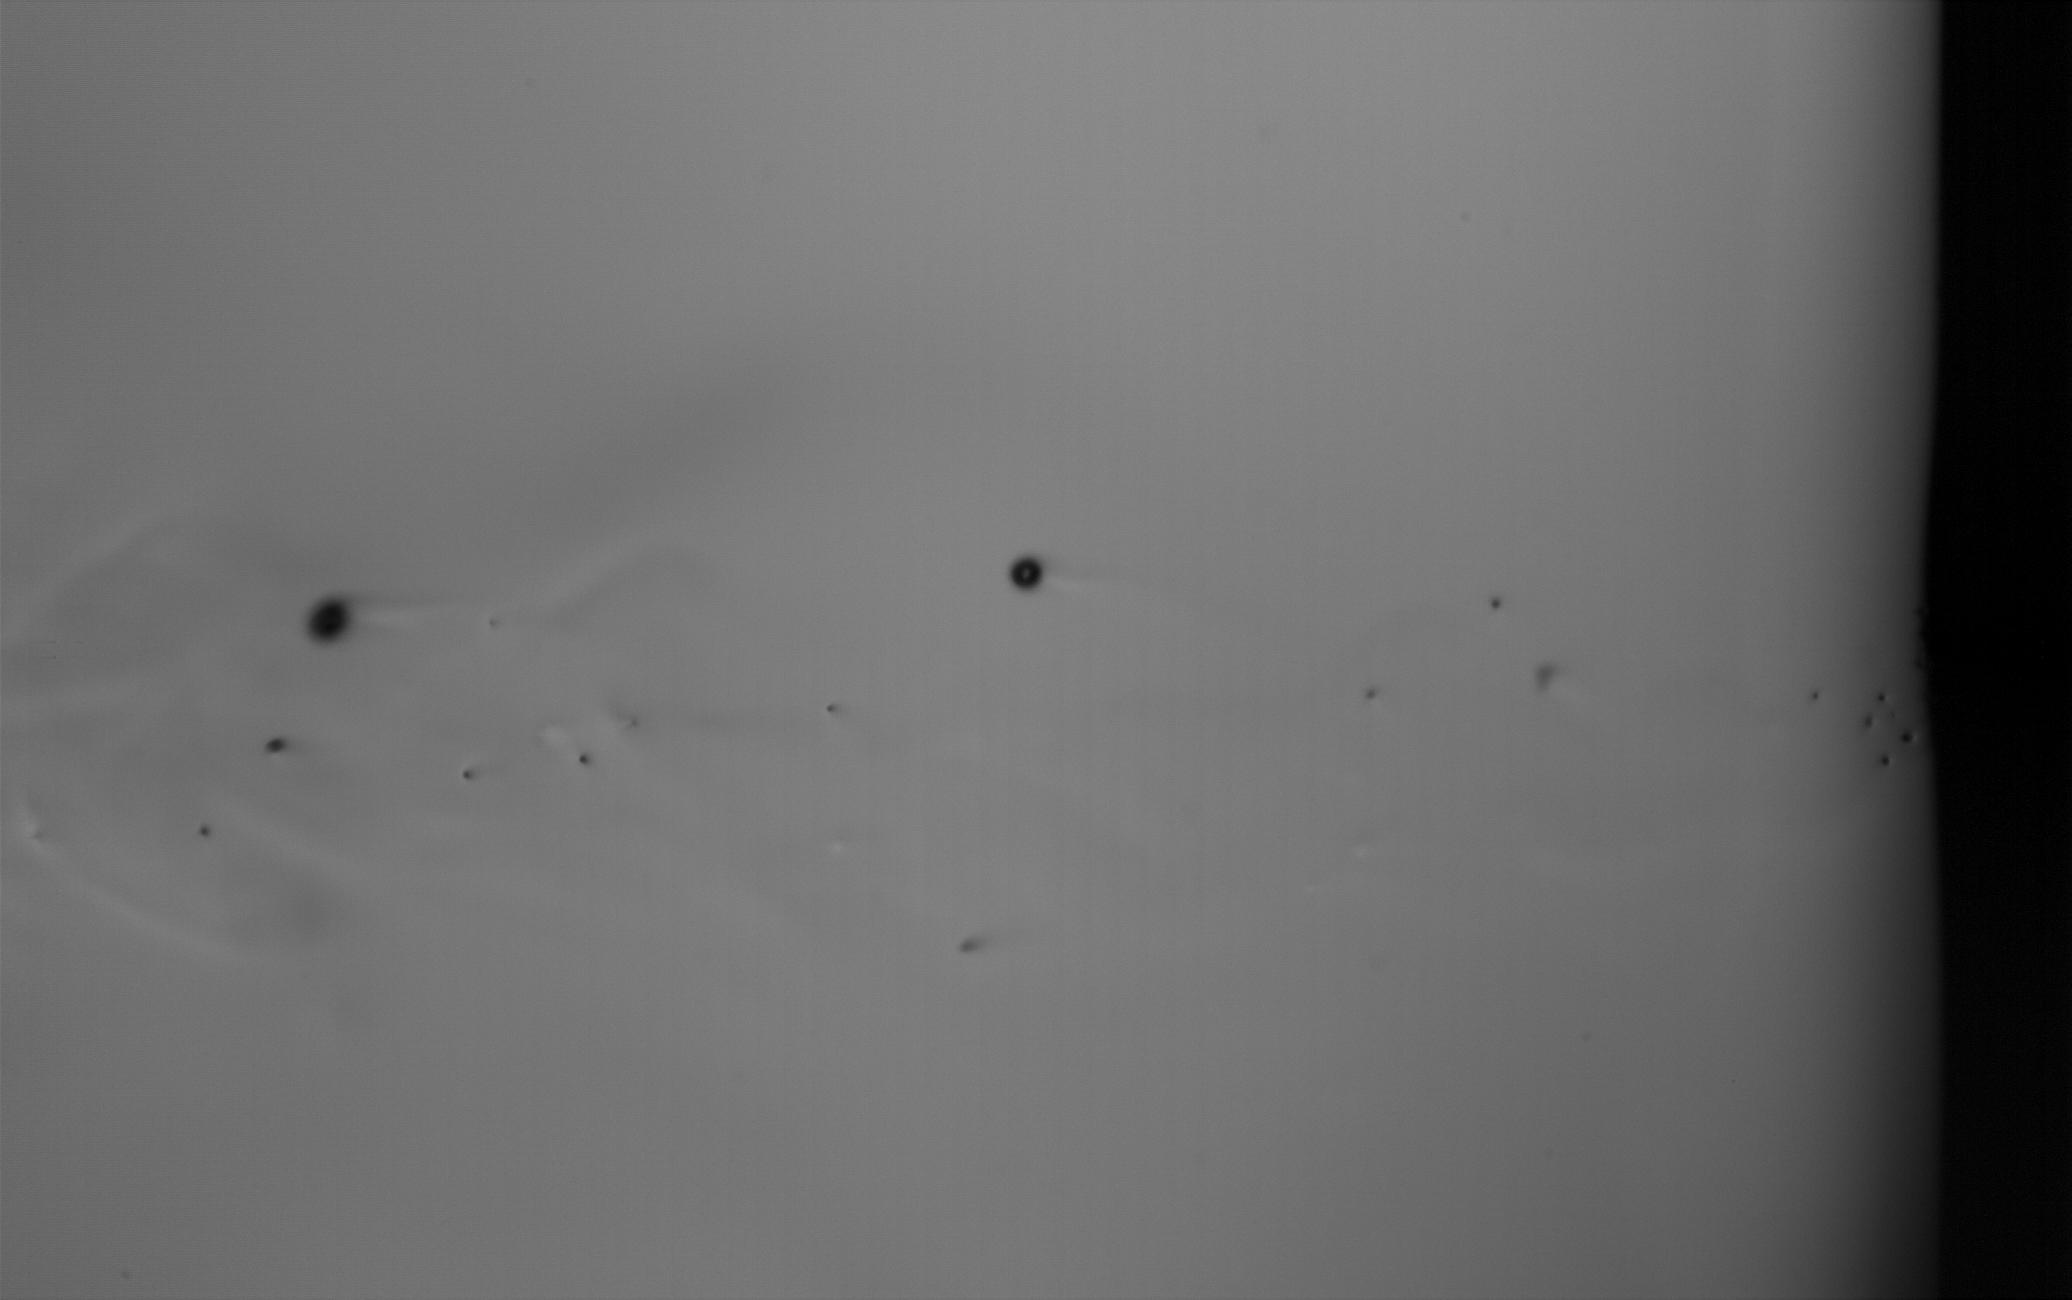ClassicalEvaporation: (304, 595, 350, 643), (1006, 553, 1042, 590), (463, 770, 470, 779), (1903, 732, 1910, 741), (579, 755, 587, 764), (1877, 695, 1883, 702), (201, 827, 207, 834), (1882, 756, 1888, 764), (1368, 690, 1374, 696), (826, 705, 832, 711), (1493, 601, 1499, 607), (1813, 693, 1817, 699)
TransitionalMixing: (269, 738, 283, 750)
